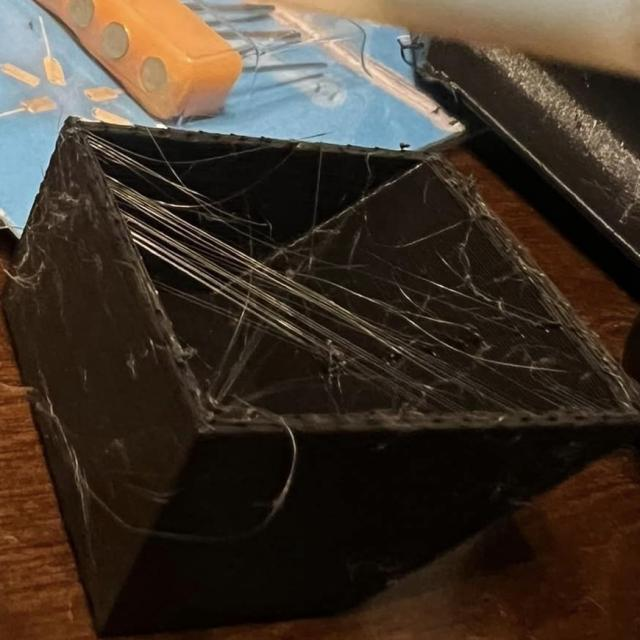Stringing: (262, 252, 574, 428), (93, 131, 297, 291)
